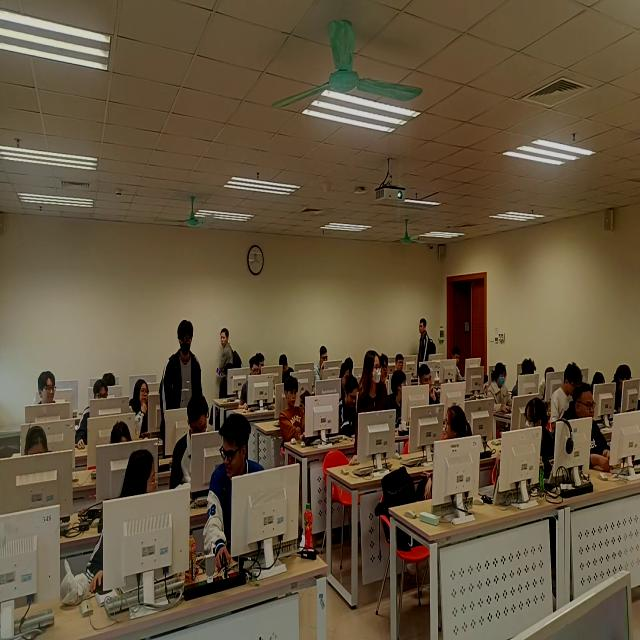raise_head: (560, 384, 615, 474), (129, 380, 152, 443), (34, 368, 61, 407), (395, 355, 407, 372)
stand: (160, 320, 204, 460), (351, 351, 389, 468), (217, 329, 244, 399), (418, 318, 438, 381)
using_computer: (169, 395, 209, 495), (279, 376, 309, 452), (76, 381, 109, 449), (552, 362, 583, 425), (489, 362, 513, 417), (339, 375, 359, 439), (239, 356, 261, 412), (611, 365, 635, 416), (513, 361, 537, 404), (24, 426, 52, 460), (419, 362, 440, 407), (314, 345, 330, 387), (452, 349, 468, 384), (279, 354, 295, 385), (540, 365, 555, 395), (592, 372, 606, 399), (339, 362, 351, 389), (104, 372, 117, 386), (346, 355, 355, 375)
